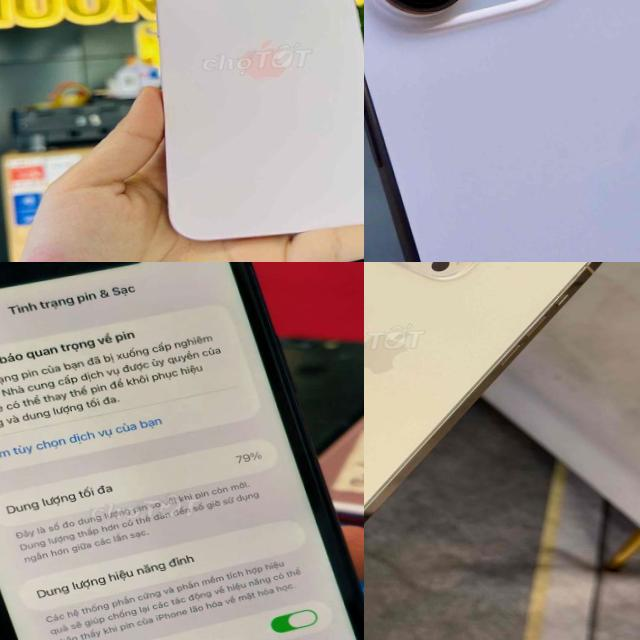gen_11: (0, 262, 364, 640)
gen_14: (364, 262, 622, 562)
gen_15: (138, 0, 364, 244)
gen_16: (364, 0, 640, 262)
